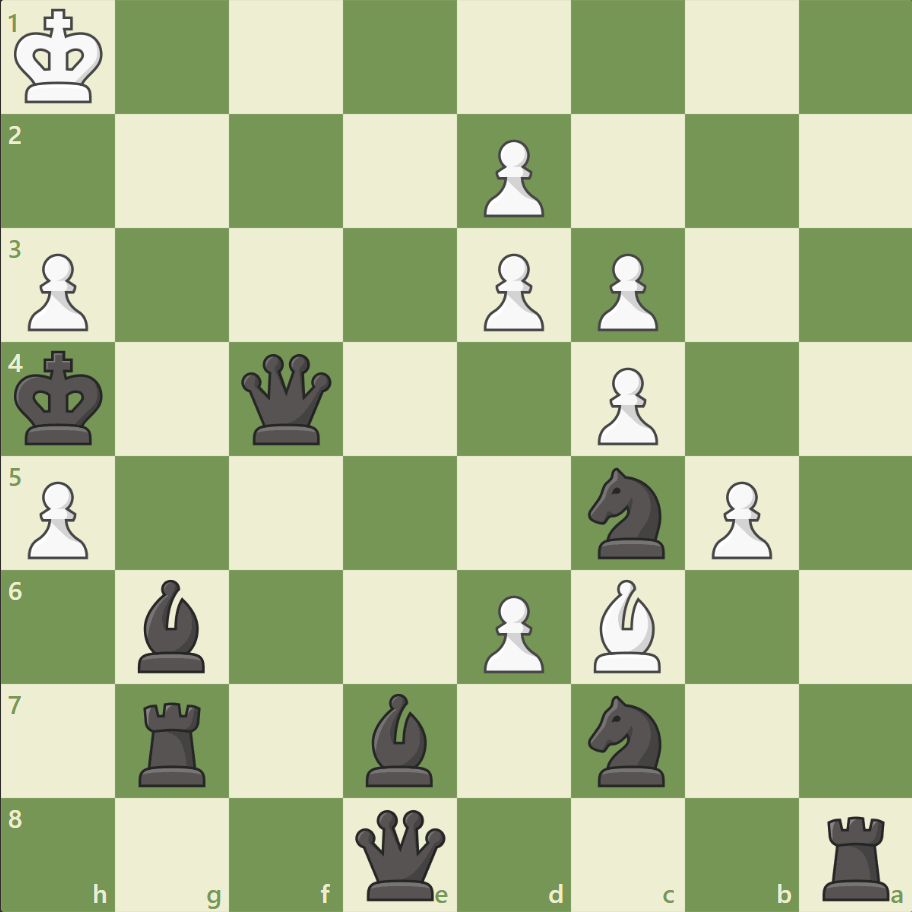B: (585, 574, 669, 676)
K: (11, 4, 111, 112)
P: (474, 586, 549, 677), (701, 473, 776, 564), (20, 473, 95, 564), (474, 246, 549, 337), (20, 246, 95, 337), (474, 132, 549, 223), (588, 359, 662, 450), (588, 246, 662, 337)
b: (358, 687, 442, 790), (131, 574, 215, 676)
k: (11, 344, 111, 452)
n: (579, 688, 676, 791), (579, 461, 676, 564)
q: (237, 349, 336, 449), (351, 804, 450, 903)
r: (814, 806, 897, 904), (133, 693, 215, 790)
